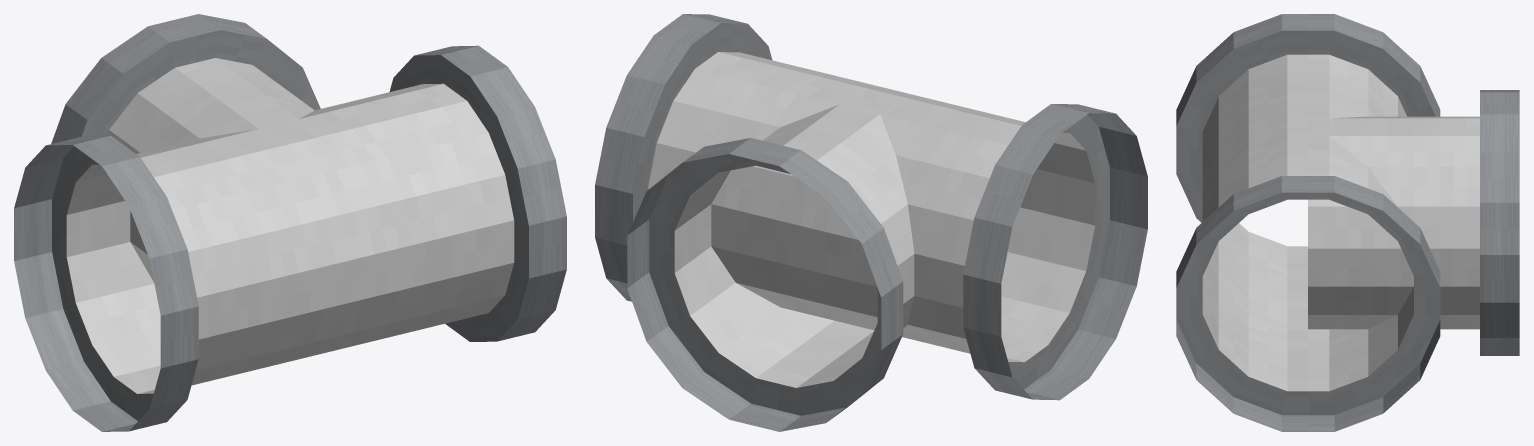
File: connection_52.obj
The picture shows the model from 3 angles, left to right: view 1: azimuth 30°, elevation 25°; view 2: azimuth 150°, elevation 25°; view 3: azimuth 270°, elevation 25°; orthographic projection. The views are drawn at different scales.
Bounding box in the file's own units: 1 × 0.625 × 0.8125.
